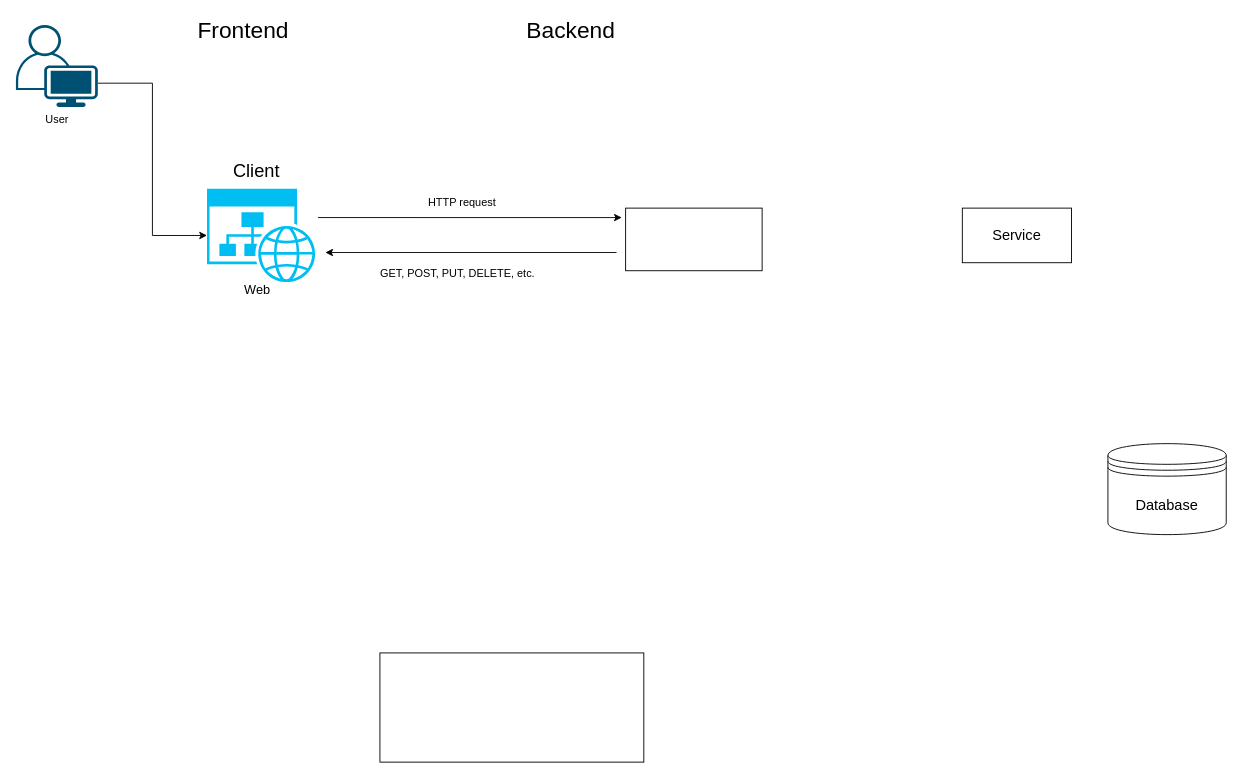
This 1242x778 diagram has some shape labels left out. The centre of each missing label's shape, as x and y in pixels:
Controller: point (693, 239)
Server: point (511, 707)
